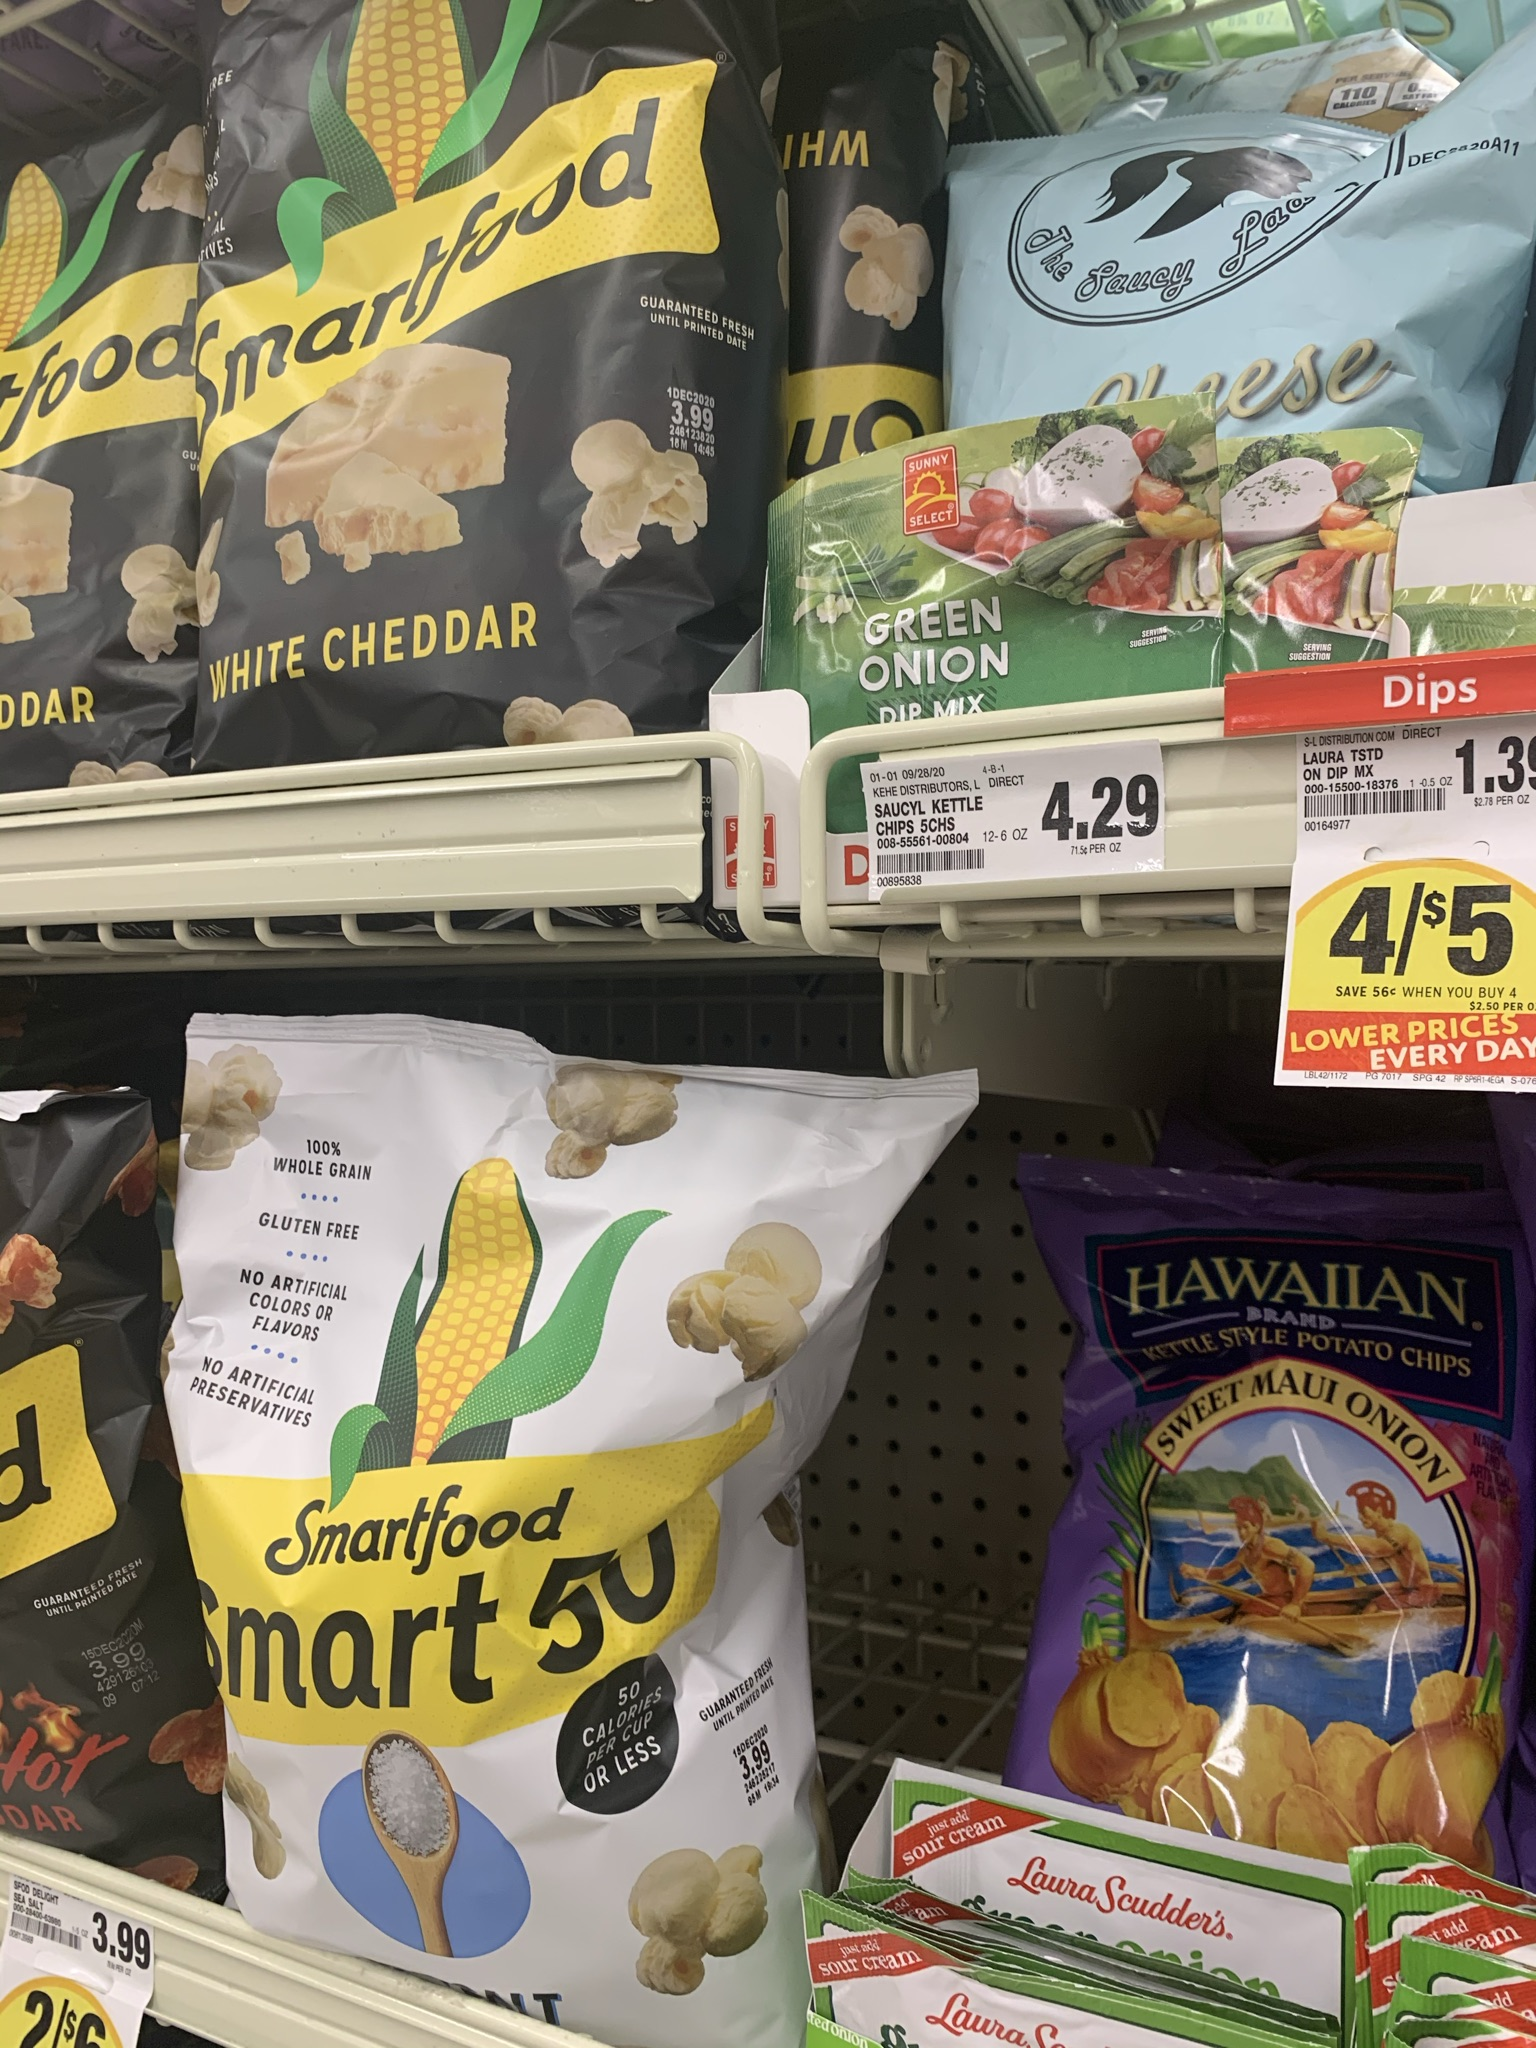Chips: (195, 3, 718, 755)
